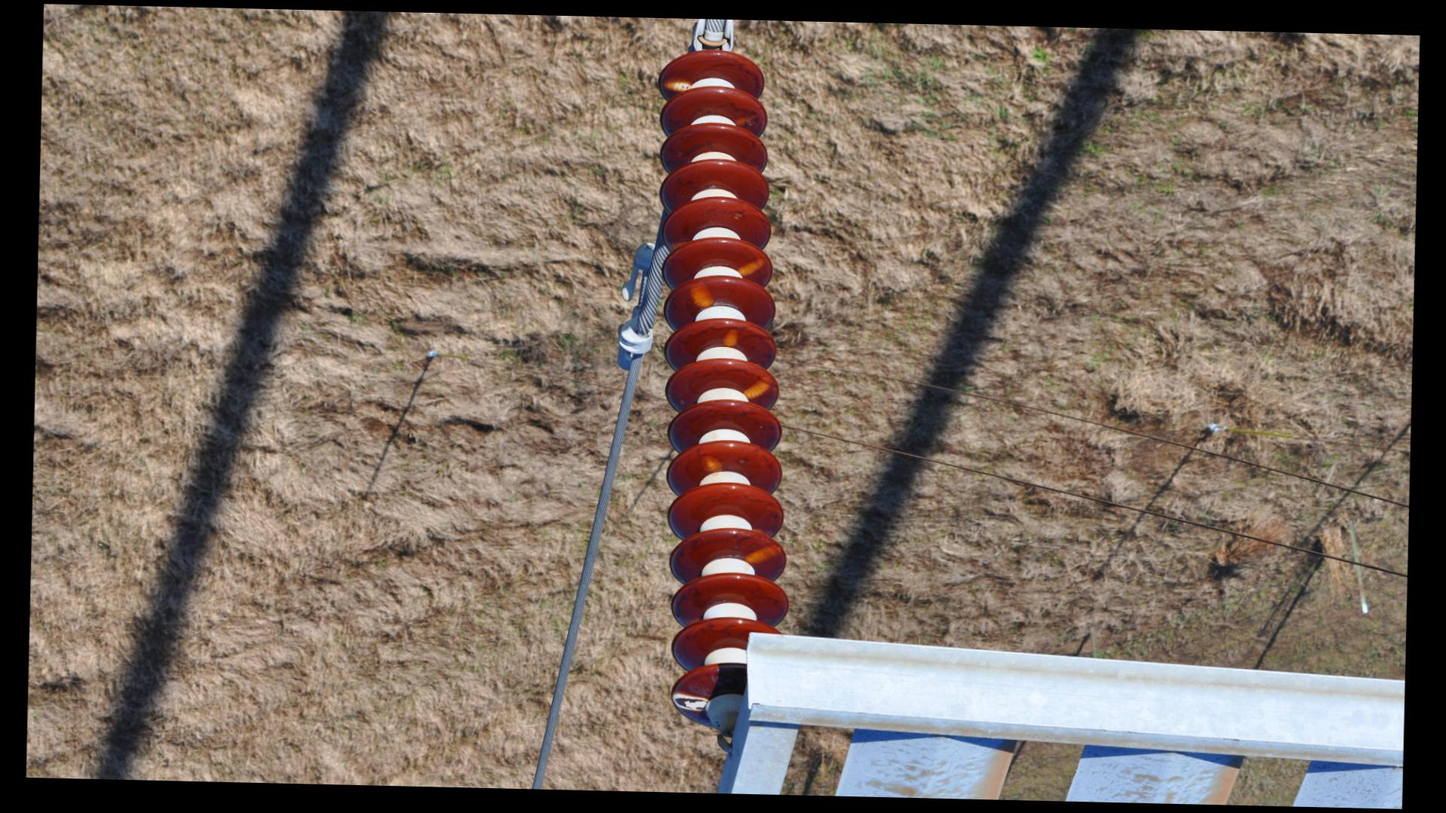damper: (610, 237, 661, 375)
